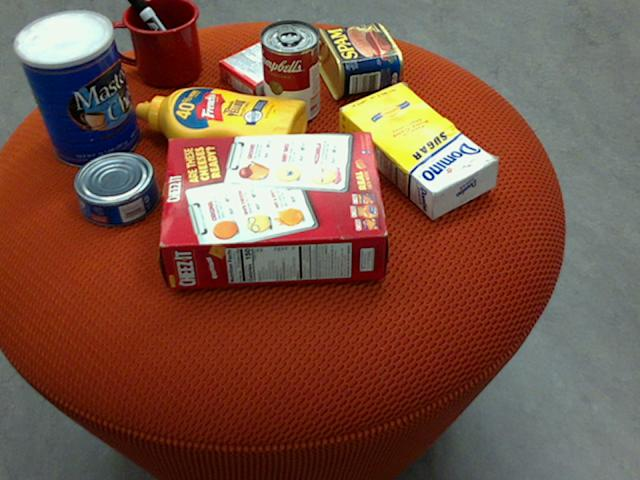cracker_box: (159, 131, 387, 288)
gelatin_box: (218, 34, 309, 101)
large_marker: (127, 0, 194, 76)
master_chef_can: (12, 9, 140, 167)
mug: (108, 0, 201, 87)
mustard_bottle: (136, 87, 307, 169)
potted_meat_can: (313, 23, 403, 100)
sugar_box: (338, 82, 499, 218)
tomato_soup_can: (259, 18, 320, 123)
tuna_fish_can: (73, 152, 159, 227)
